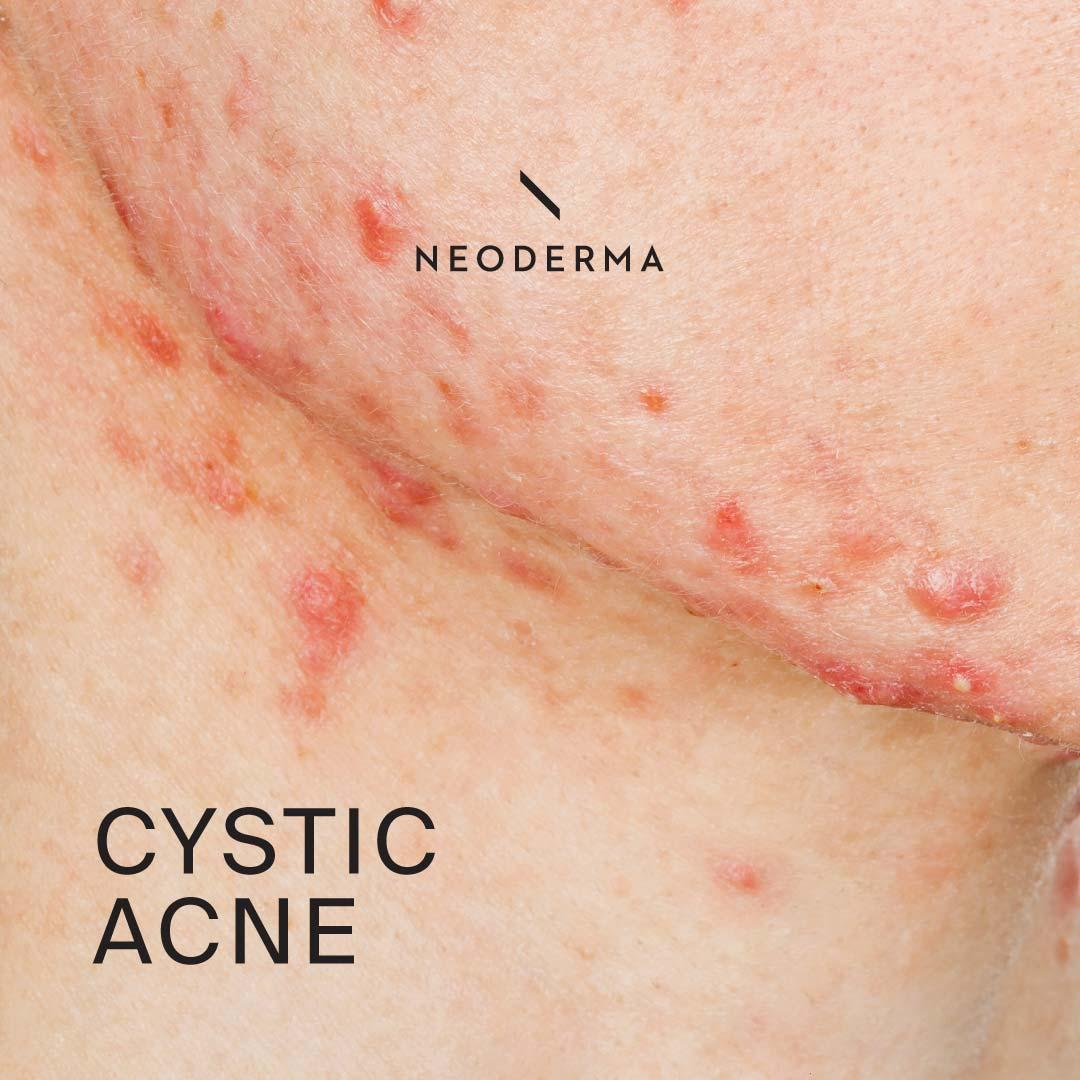acne_scars: (334, 158, 425, 289), (705, 500, 777, 571)
purulent: (932, 662, 1020, 726)
sebo-crystan-conglo: (907, 500, 1013, 633)
